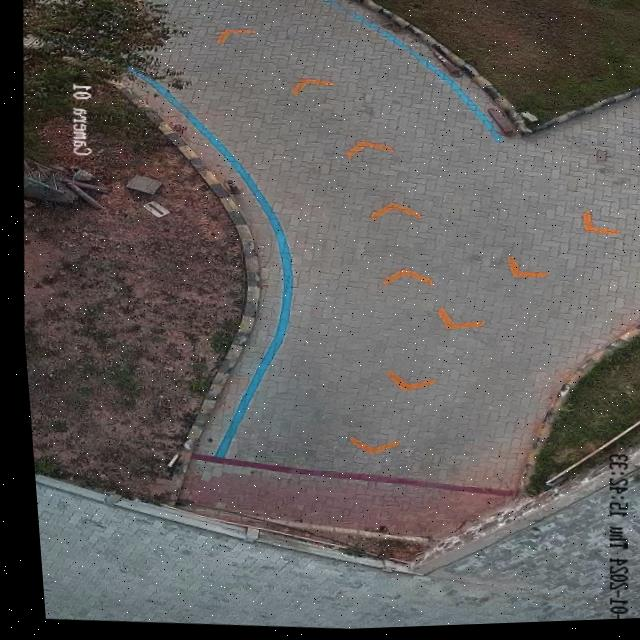No Car: (18, 0, 640, 631)
